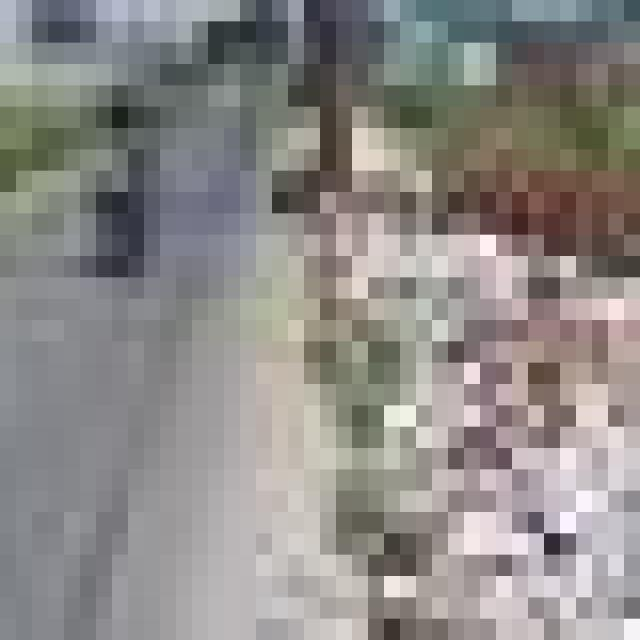trash: (266, 128, 640, 640)
